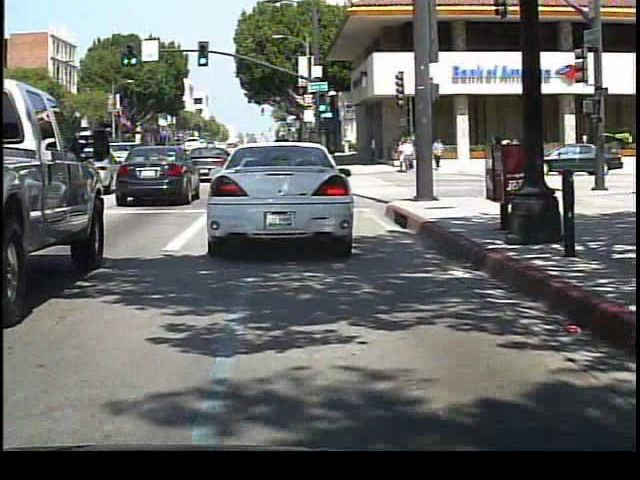person: (495, 134, 516, 174), (400, 136, 416, 177), (433, 135, 448, 171)
